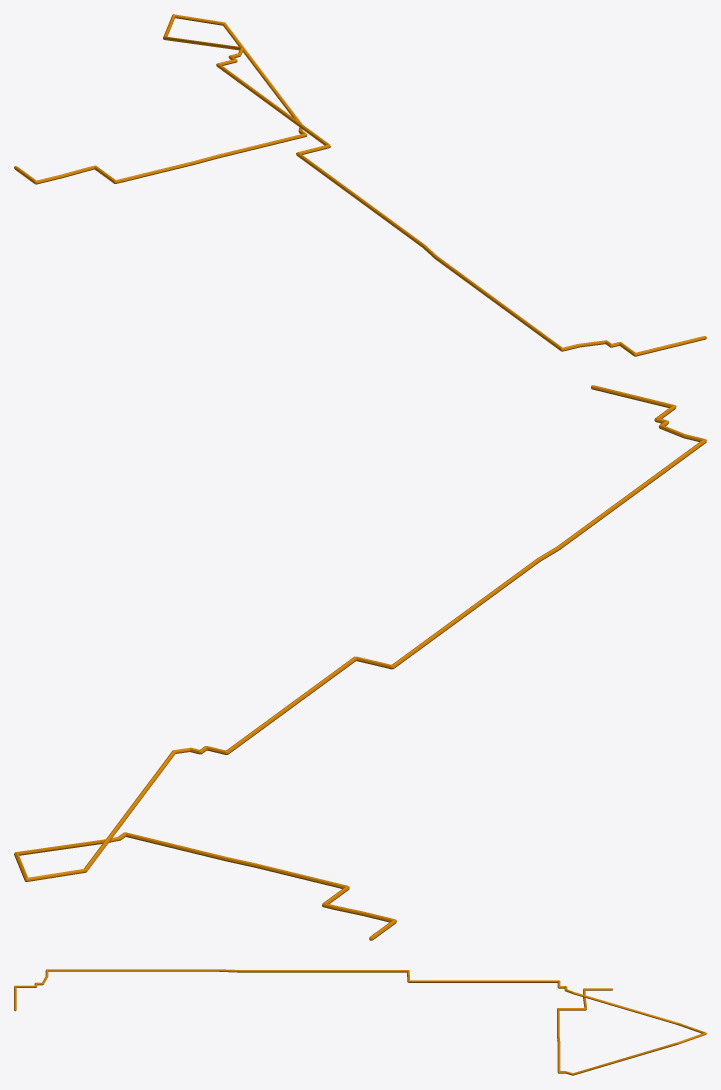
3 renders of one model, top to bottom at view 1: azimuth 30°, elevation 25°; view 2: azimuth 150°, elevation 25°; view 3: azimuth 270°, elevation 25°, orthographic. The views are drawn at different scales.
Bounding box in the file's own units: 1492 × 520 × 5070.
